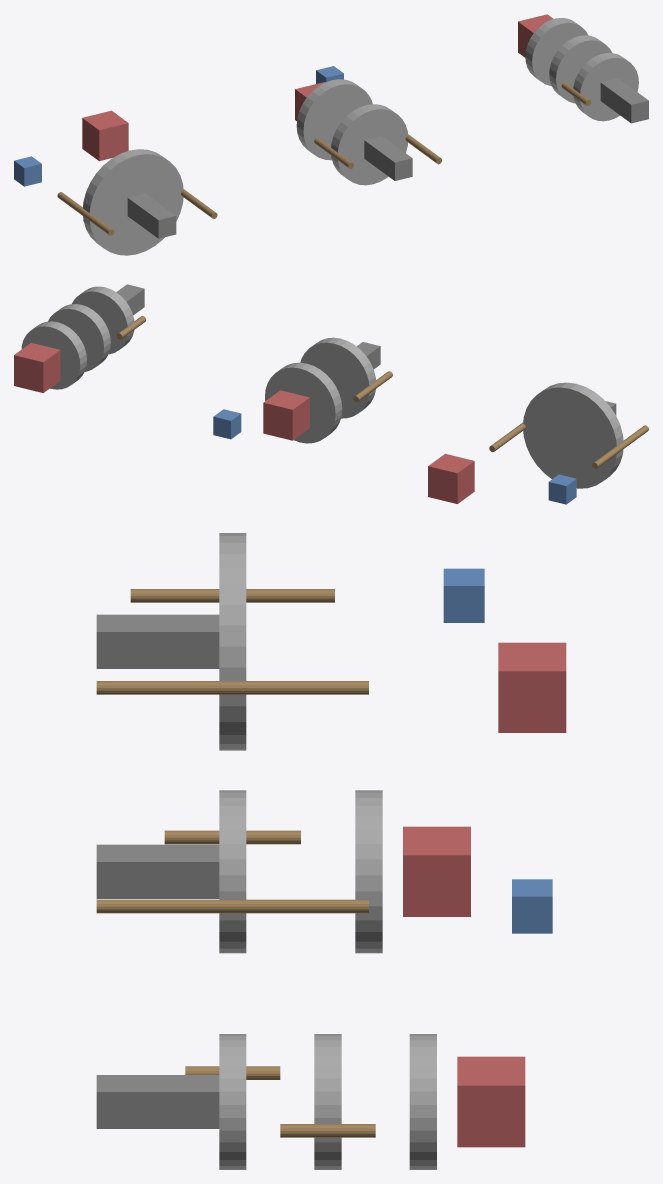
The model's file is pulley_systems.glb.
3 views of the same model, one above another, from view 1: azimuth 30°, elevation 25°; view 2: azimuth 150°, elevation 25°; view 3: azimuth 270°, elevation 25° (orthographic). The views are drawn at different scales.
Parts seen in each view (by area): view 1: world; view 2: world; view 3: world.
Boxes of the visible parts, x1,y1,x2,y2 form: world: (14,14,648,255); world: (14,284,648,504); world: (96,533,566,1169).
Bounding box in the file's own units: 9.5 × 1.6 × 3.45.
